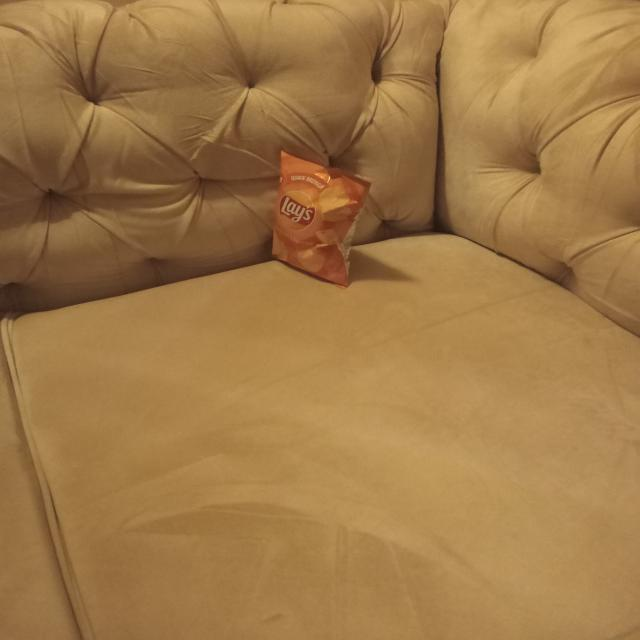Plastic: (269, 146, 374, 288)
